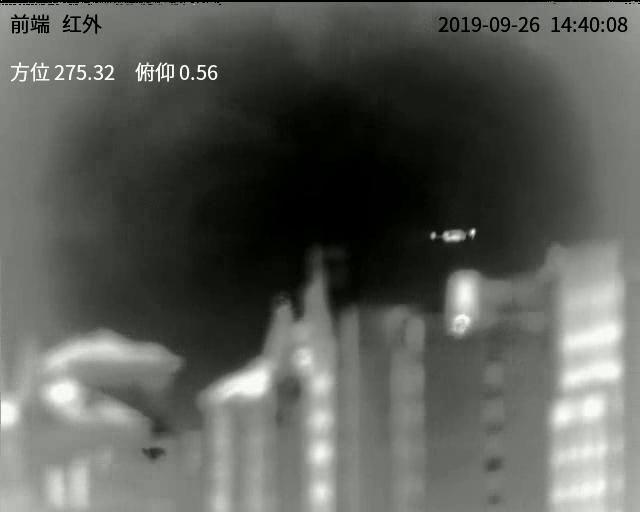DRONE: (430, 227, 476, 242)
